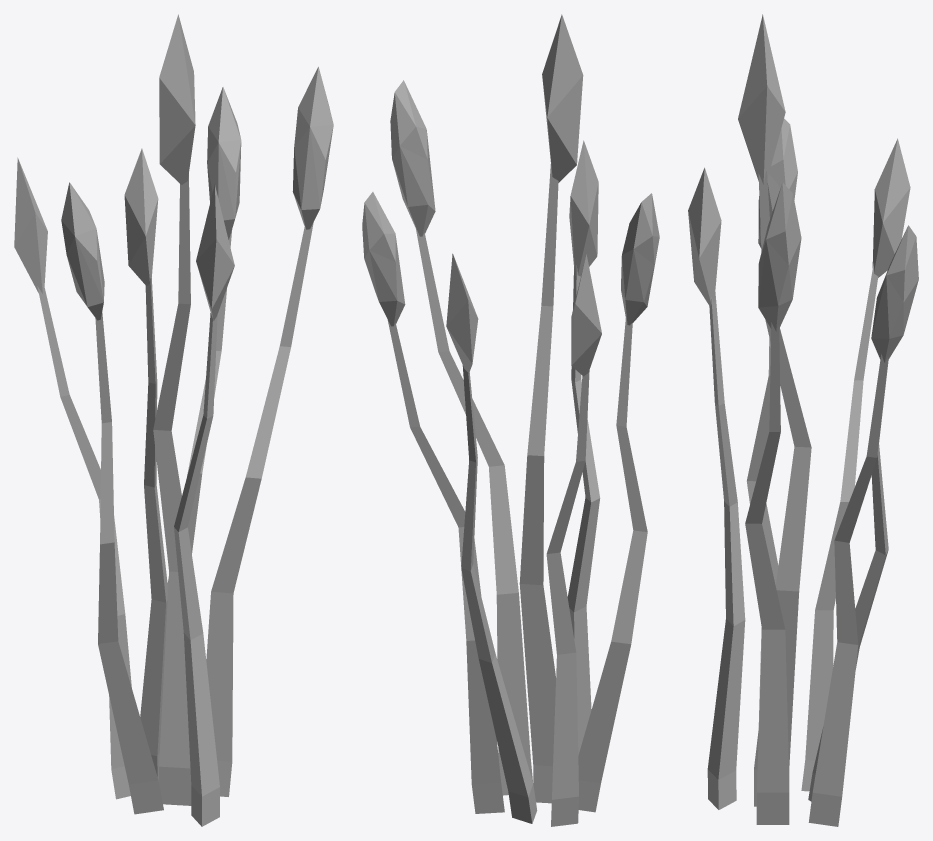
The model's file is Reeds_01.fbx.
3 renders of one model, left to right at view 1: azimuth 30°, elevation 25°; view 2: azimuth 150°, elevation 25°; view 3: azimuth 270°, elevation 25°, orthographic.
Visible parts, largest first — view 1: Reeds_01; view 2: Reeds_01; view 3: Reeds_01.
Boxes of the visible parts, left/top/right/bottom form: Reeds_01: left=14, top=14, right=333, bottom=826; Reeds_01: left=362, top=14, right=659, bottom=826; Reeds_01: left=688, top=14, right=918, bottom=826.
Size of the model in its own units: 0.33 by 0.9399 by 0.2491.
